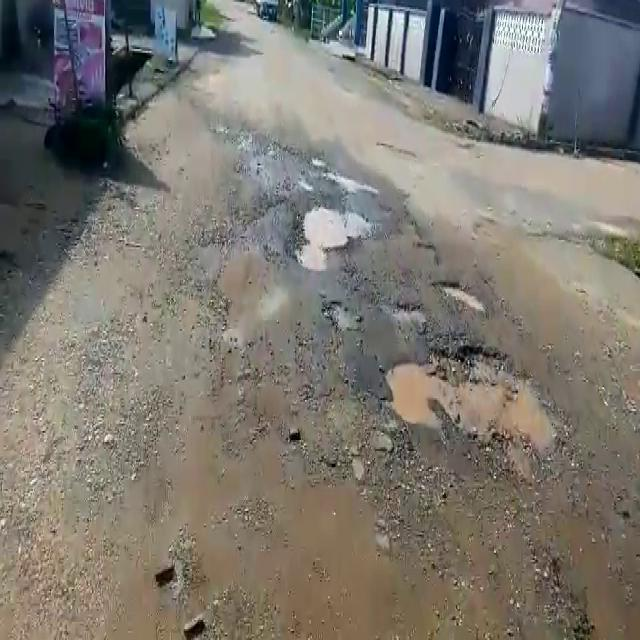pothole: (375, 340, 565, 460), (291, 198, 379, 271), (436, 278, 488, 316), (386, 298, 424, 326)
